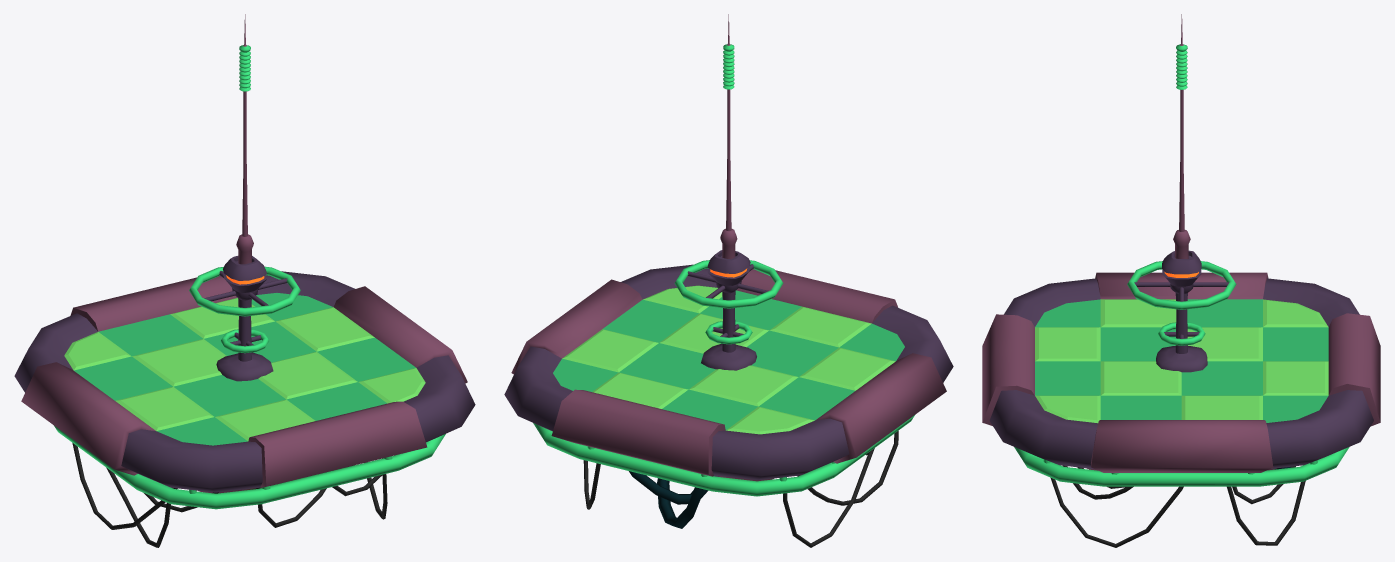
The model's file is vertical_platform.fbx.
3 views of the same model, side by side, from view 1: azimuth 30°, elevation 25°; view 2: azimuth 150°, elevation 25°; view 3: azimuth 270°, elevation 25° (orthographic). The views are drawn at different scales.
Visible parts, largest first — view 1: Plane.001; view 2: Plane.001; view 3: Plane.001.
Part boxes in pixels (left/top/right/bottom): Plane.001: left=14, top=14, right=475, bottom=547; Plane.001: left=504, top=14, right=953, bottom=547; Plane.001: left=982, top=14, right=1380, bottom=547.
Size of the model in its own units: 200 by 269 by 199.
